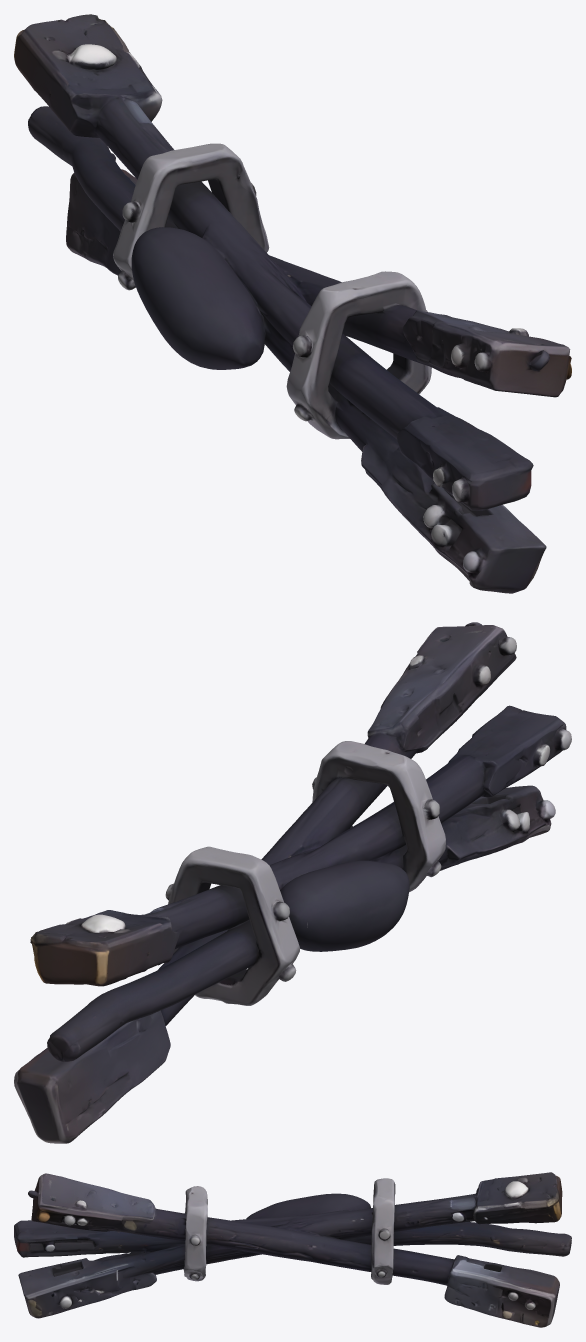
The model's file is line_cable.glb.
3 views of the same model, one above another, from view 1: azimuth 30°, elevation 25°; view 2: azimuth 150°, elevation 25°; view 3: azimuth 270°, elevation 25° (orthographic). The views are drawn at different scales.
Visible parts, largest first — view 1: tripo_node_317b2ab4-bbfa-4cbc-95a5-88b2706a7fa2; view 2: tripo_node_317b2ab4-bbfa-4cbc-95a5-88b2706a7fa2; view 3: tripo_node_317b2ab4-bbfa-4cbc-95a5-88b2706a7fa2.
Part boxes in pixels (x1,y1,x2,y2): tripo_node_317b2ab4-bbfa-4cbc-95a5-88b2706a7fa2: [14, 14, 571, 593]; tripo_node_317b2ab4-bbfa-4cbc-95a5-88b2706a7fa2: [14, 622, 571, 1143]; tripo_node_317b2ab4-bbfa-4cbc-95a5-88b2706a7fa2: [14, 1172, 571, 1327].
Bounding box in the file's own units: 0.2151 × 0.2716 × 0.9797.
1 material, 1 textured.
